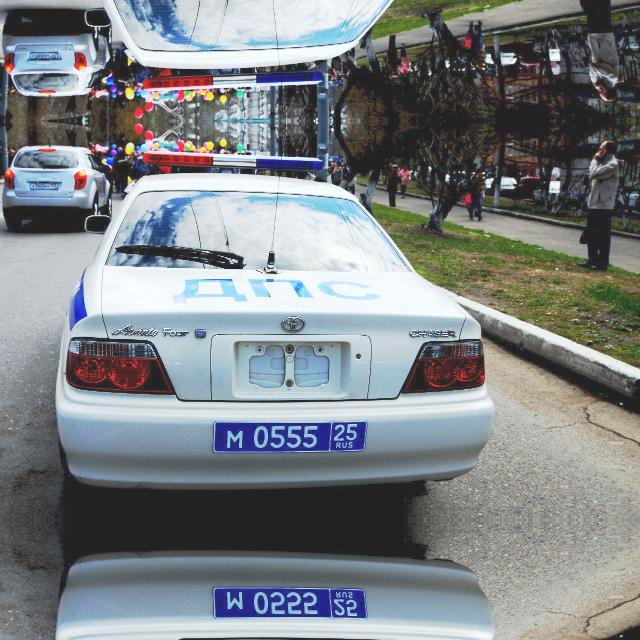citizen: (28, 178, 62, 192), (28, 48, 62, 62)
police: (209, 582, 369, 622), (209, 418, 369, 457)
